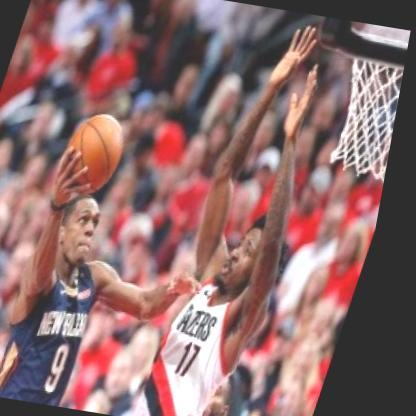basketball: (57, 108, 141, 198)
